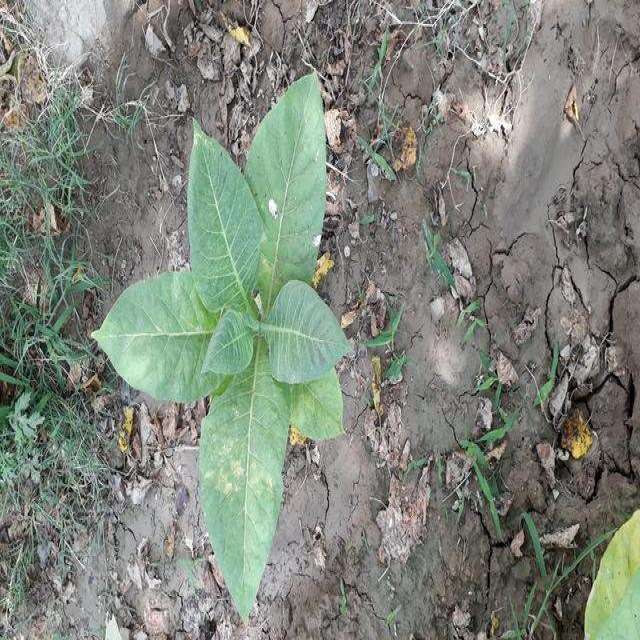crop: (84, 68, 350, 618)
